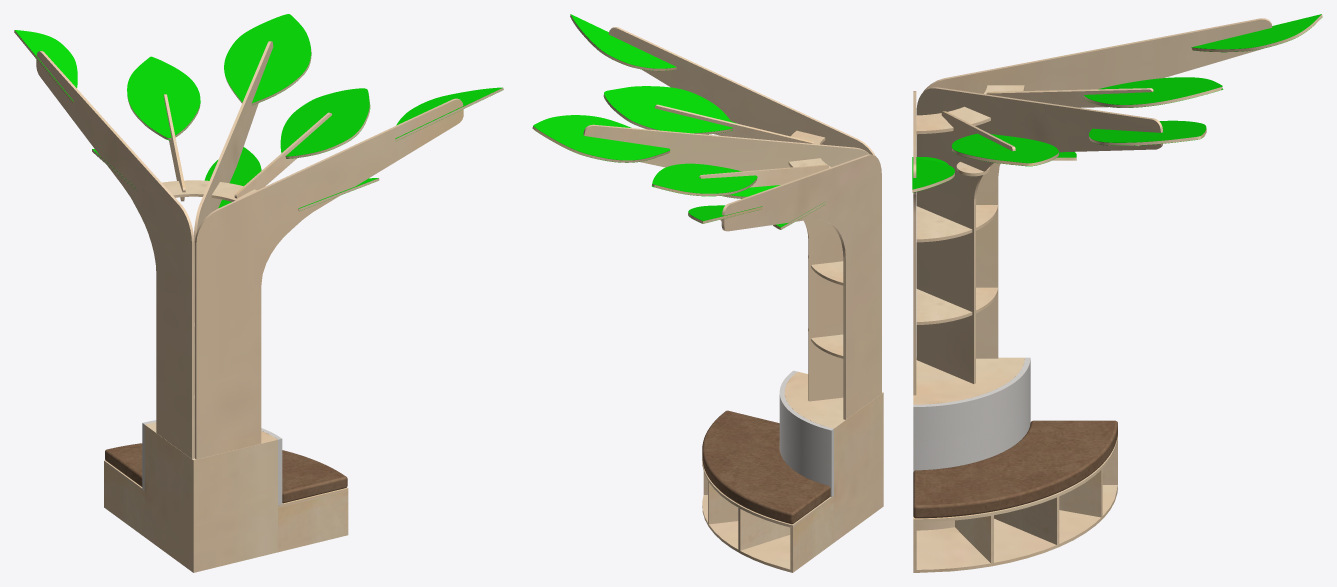
File: tree_model.glb
3 renders of one model, left to right at view 1: azimuth 30°, elevation 25°; view 2: azimuth 150°, elevation 25°; view 3: azimuth 270°, elevation 25°, orthographic. The views are drawn at different scales.
Visible parts, largest first — view 1: TREE; view 2: TREE; view 3: TREE.
Boxes of the visible parts, box(x1,y1,x2,y2) form: TREE: box(14, 14, 503, 572); TREE: box(532, 14, 883, 572); TREE: box(912, 14, 1322, 572).
Size of the model in its own units: 2.2 by 2.81 by 2.21.
Materials: 6 (5 with a texture image).
